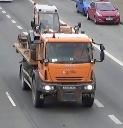Car: (85, 1, 119, 25), (75, 0, 93, 16)
Truck: (12, 6, 106, 110)
